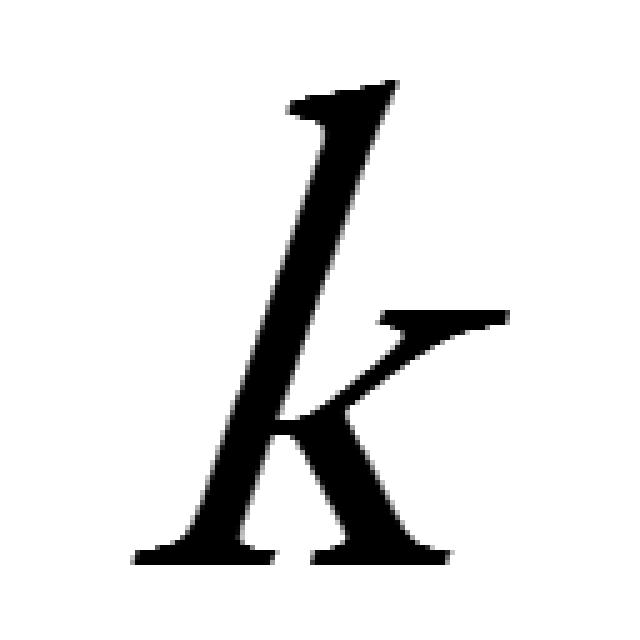K: (125, 70, 515, 570)
